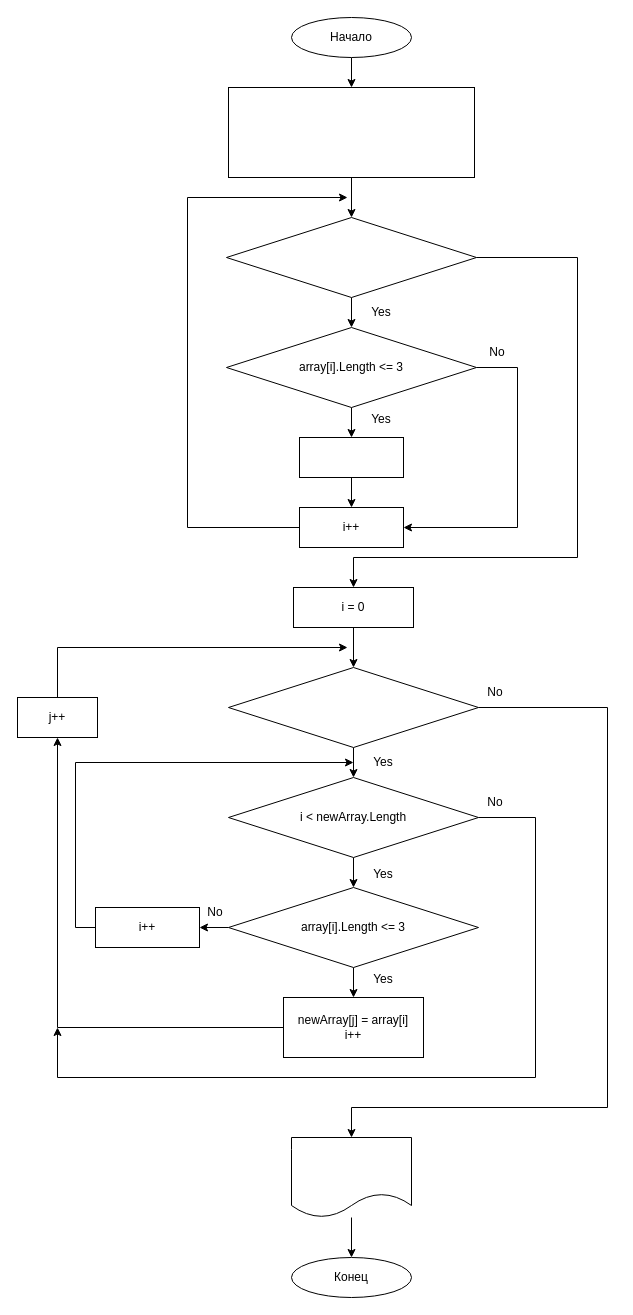
This 633x1315 diagram has some shape labels left out. The centre of each missing label's shape, as x and y in pixels:
array = ["hello", "12", "no", "butter", " "] newArray = [] size = 0 i = 0 j = 0: (x=351, y=132)
i < array.Length: (x=351, y=257)
j < size: (x=353, y=707)
newArray: (x=351, y=1177)
size++: (x=351, y=457)
